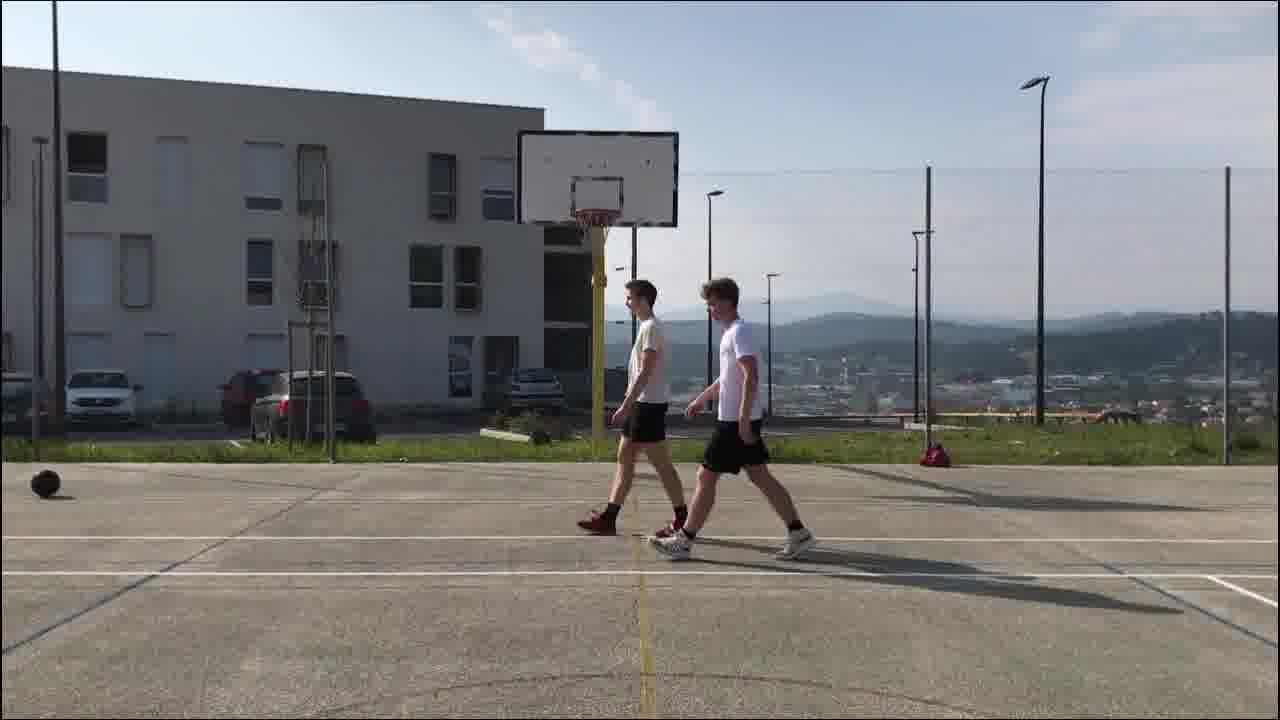jugador: (565, 269, 704, 551)
